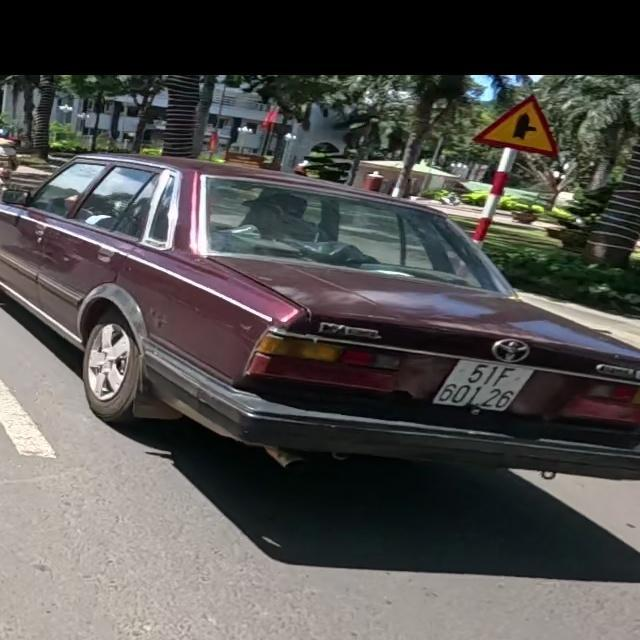car: (0, 153, 640, 498)
plate: (429, 353, 538, 418)
